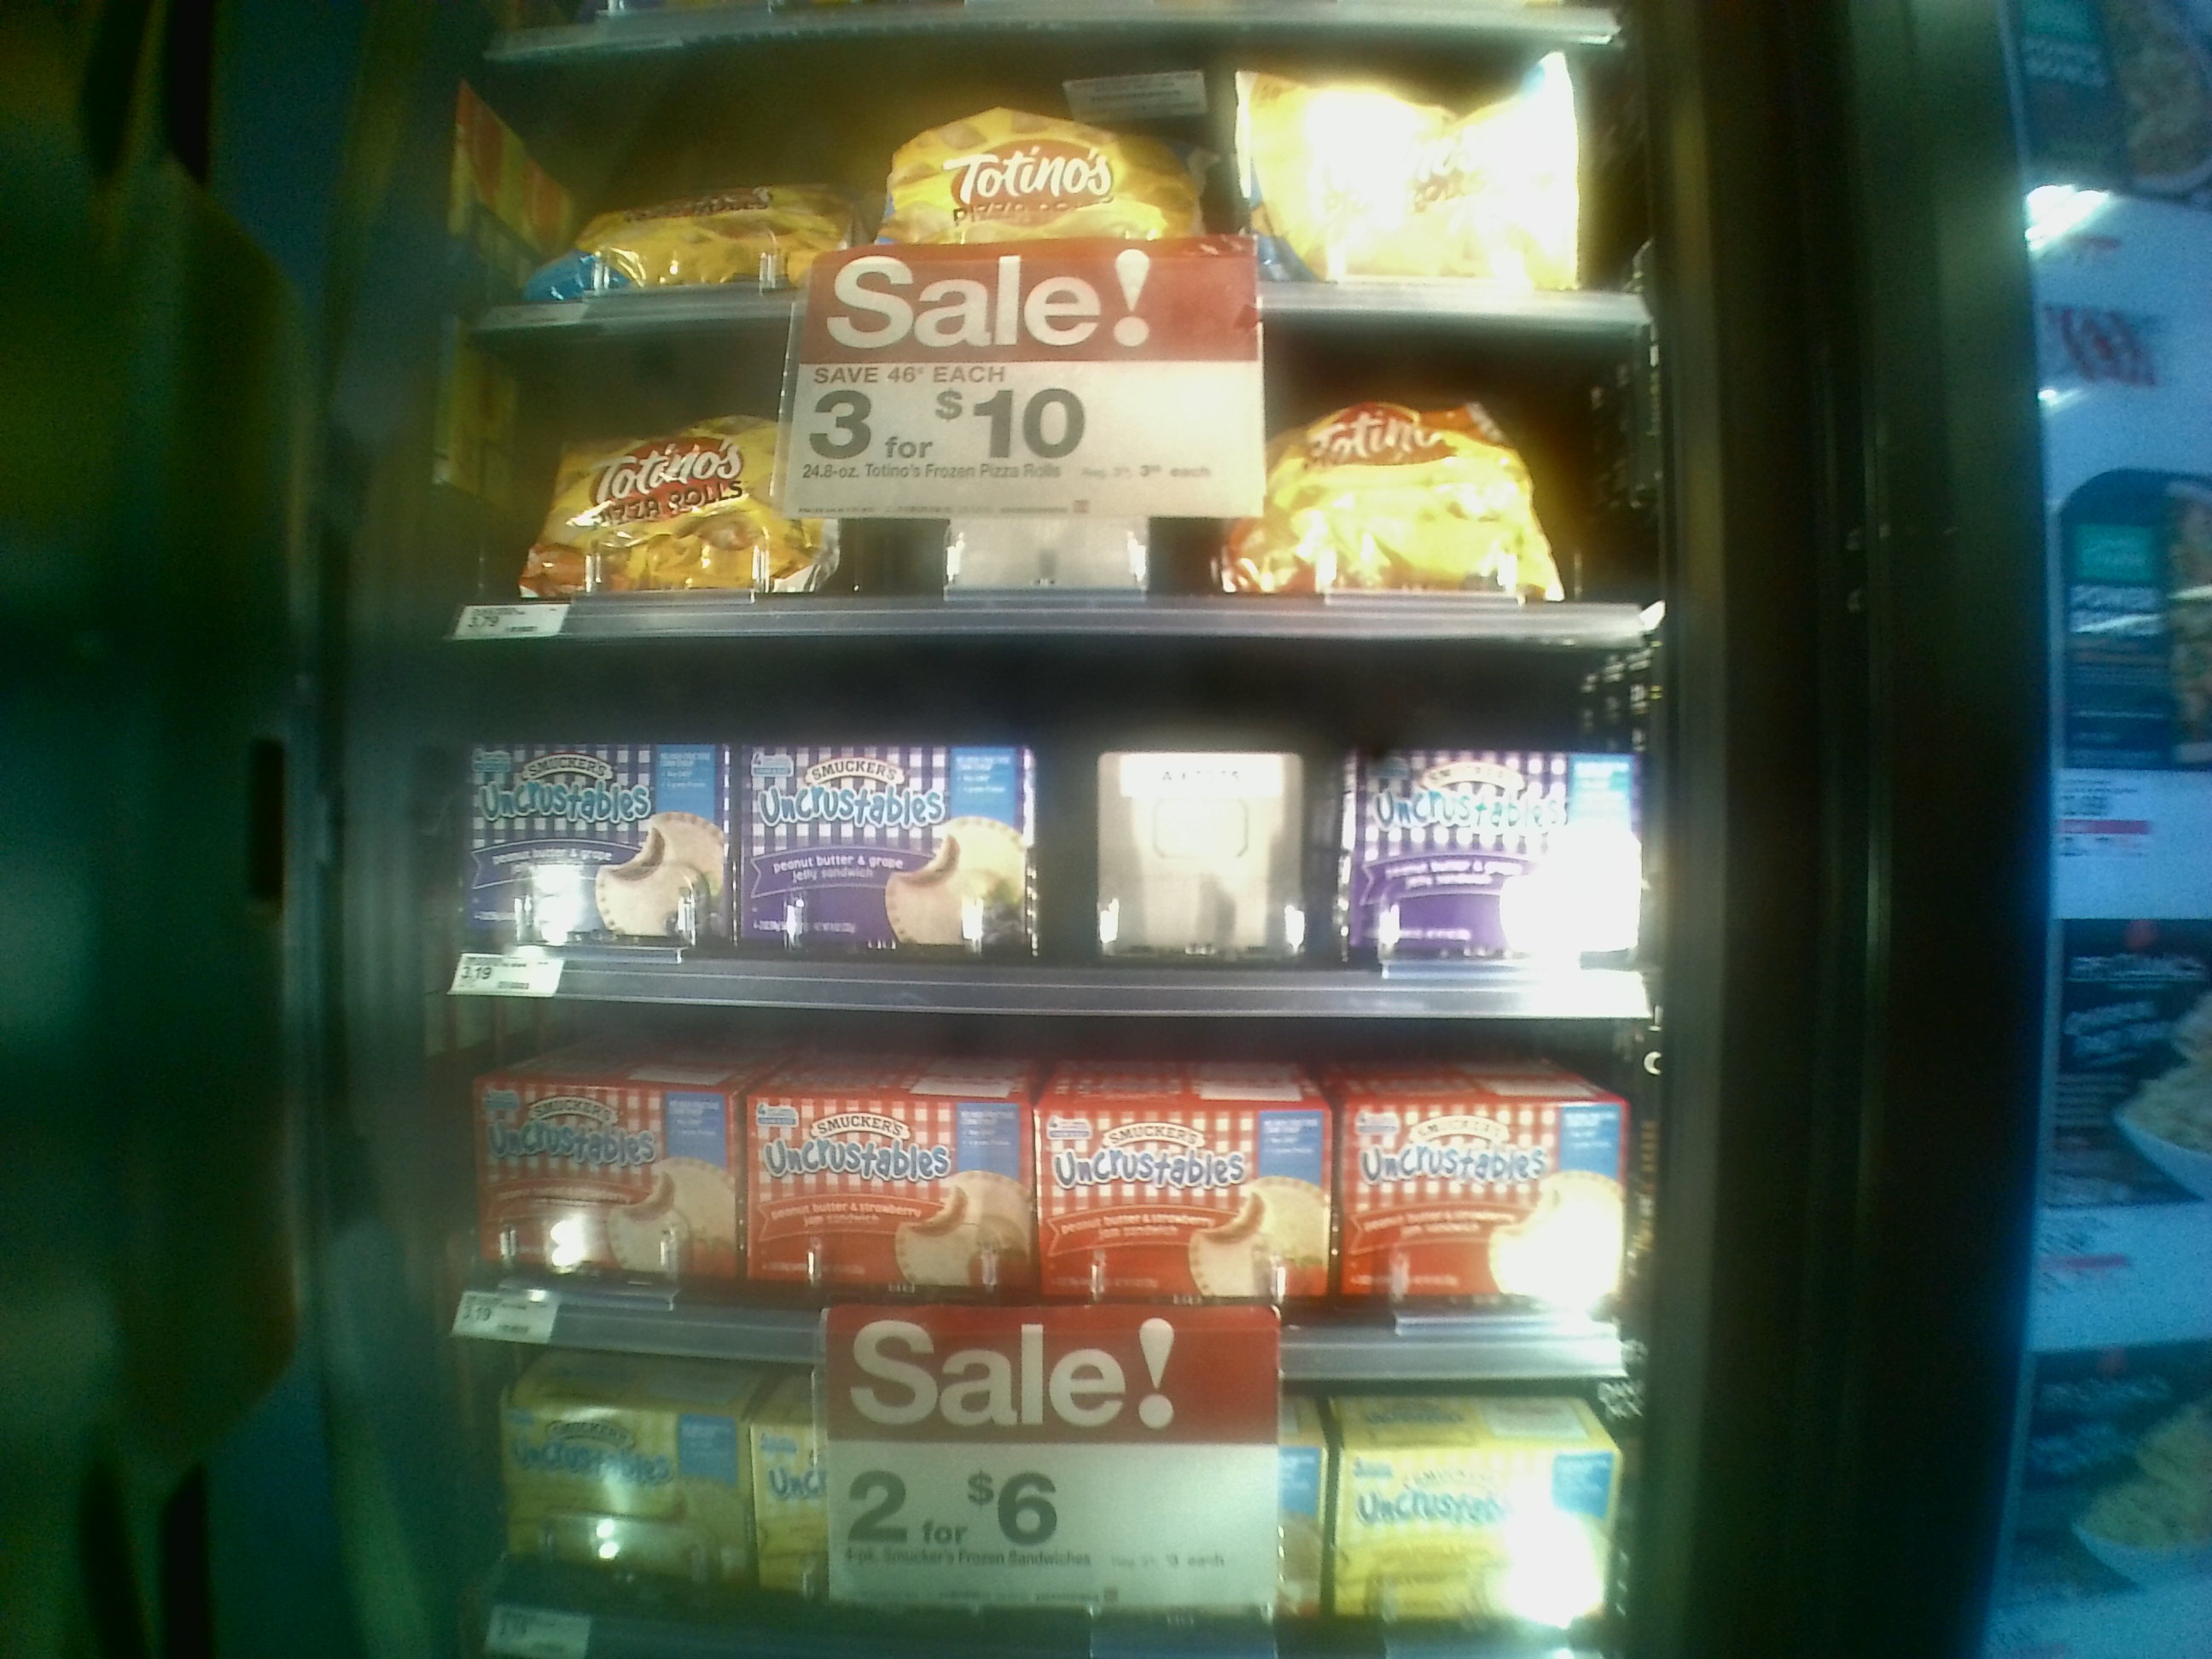shelf: (432, 619, 1635, 1030), (435, 988, 1625, 1375), (432, 324, 1651, 636)
